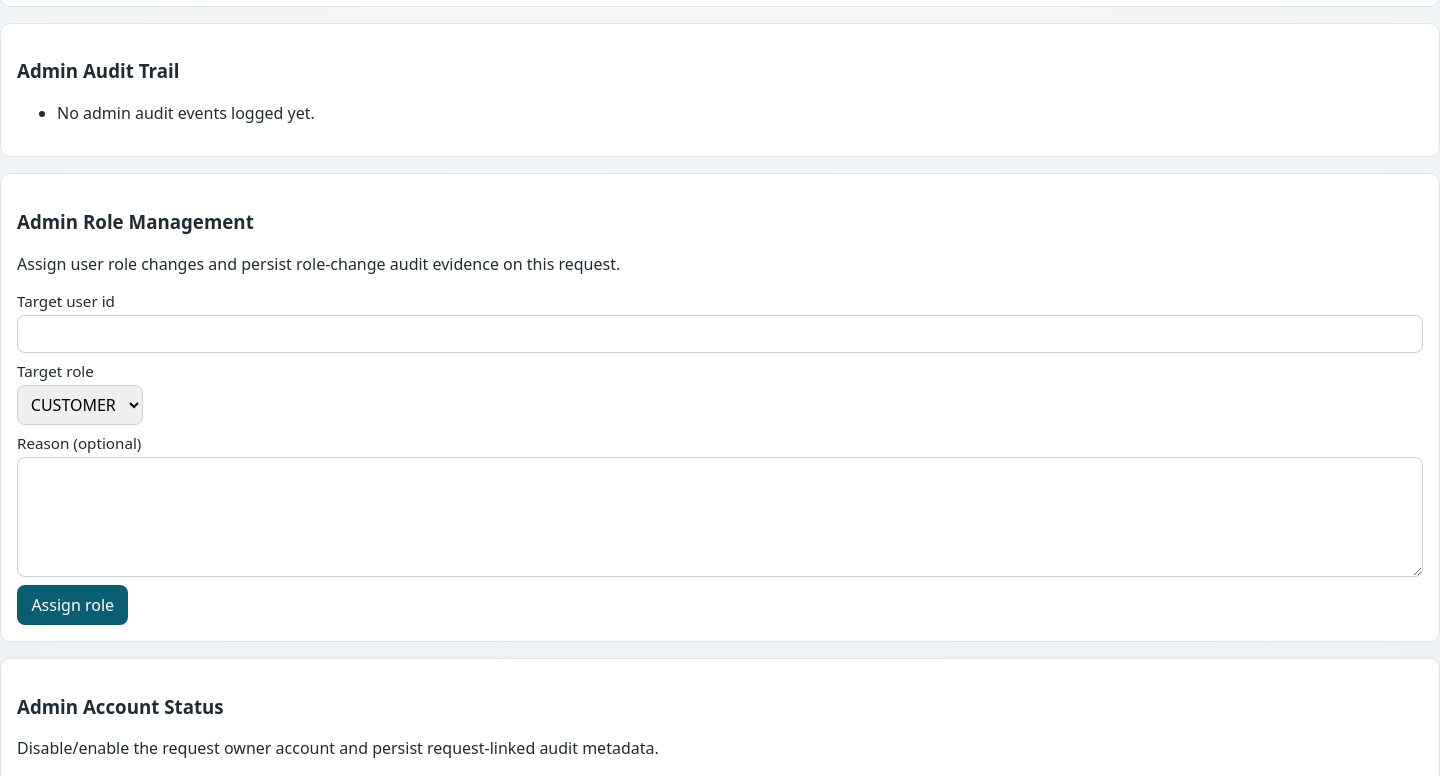
Scenario: OperatorRequestDetailPage › allows admin to assign role from request detail context
This screenshot has width=1440, height=776.
(page scrolled)
Check: the heading "Admin Role Management" is shown, box [17,209,254,234]
Select "OPERATOR" in the dropdown labelled "Target role" at (80, 405), box [17,385,143,425]
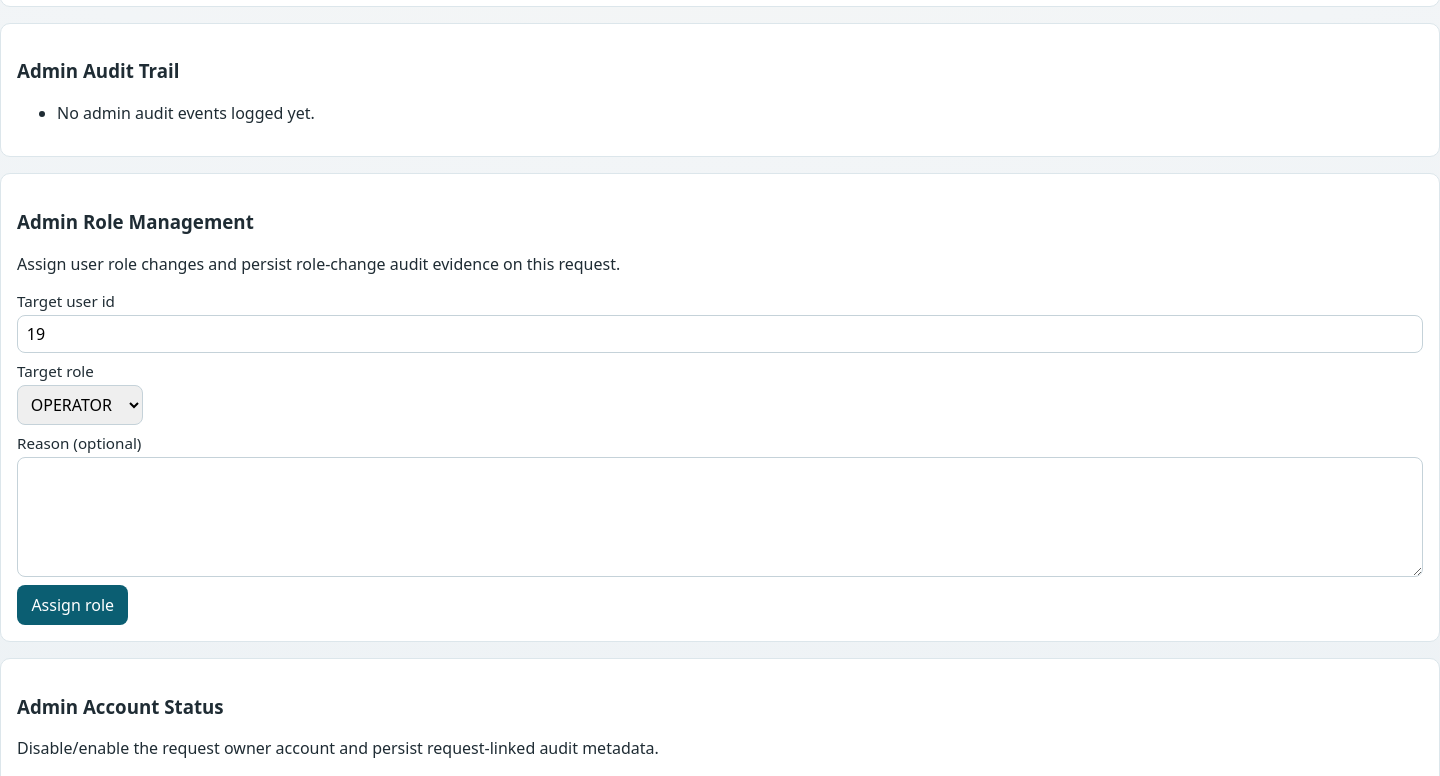
Type "Escalating user for request handoff." into the text box labelled "Reason (optional)".
click(720, 517); type("Escalating user for request handoff.")  # box [17,457,1423,577]
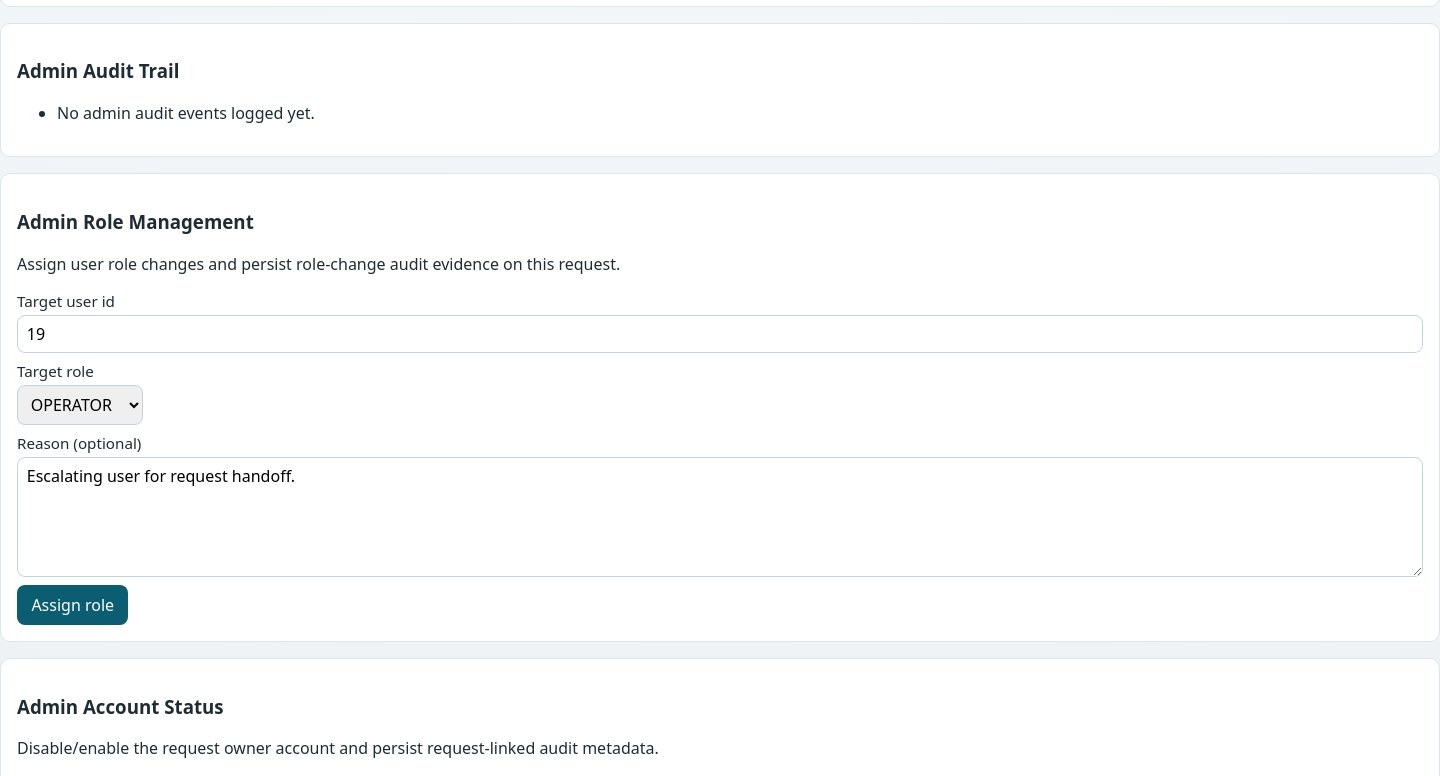
Click the button "Assign role".
click(73, 605)  # box [17,585,128,625]
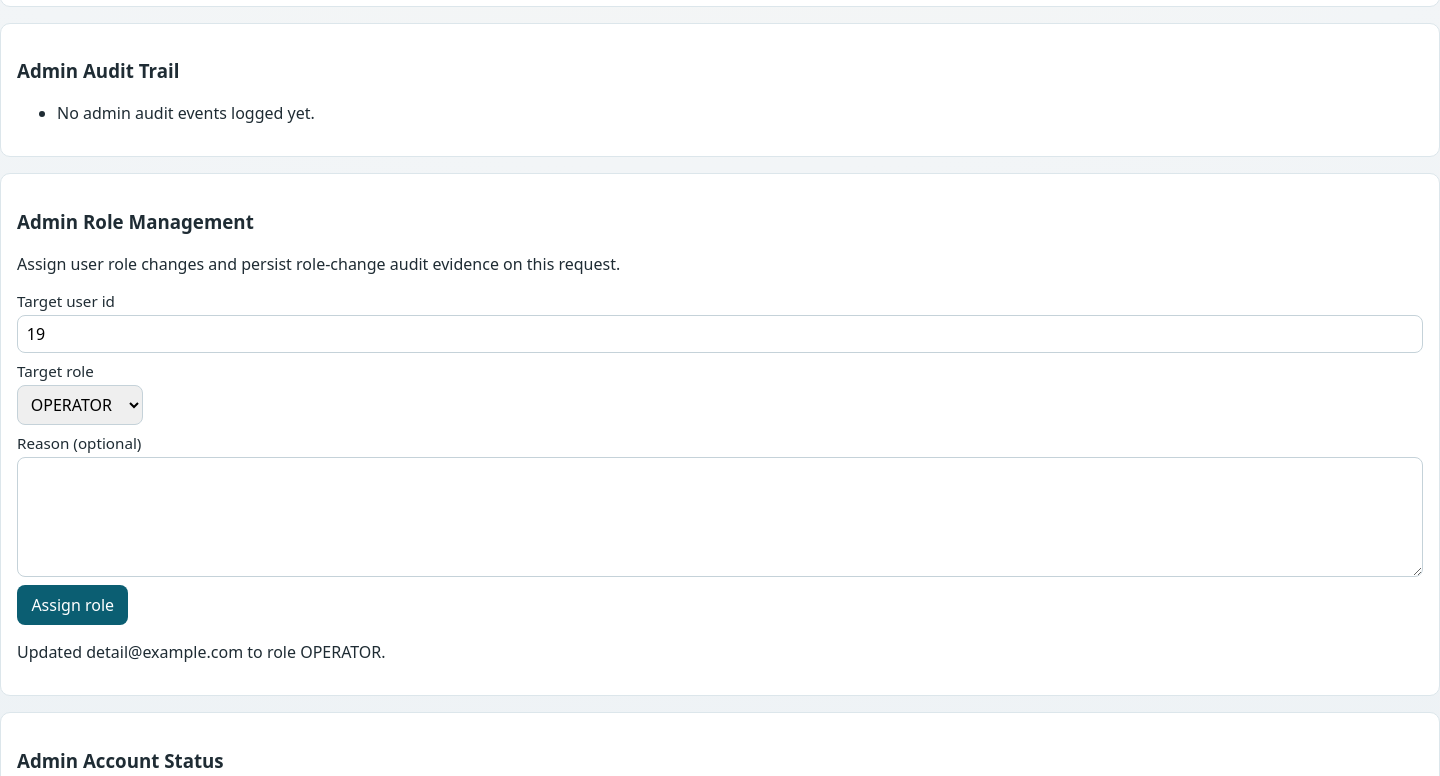
Check: the text "Updated detail@example.com to role OPERATOR." is shown, box [17,641,386,663]
